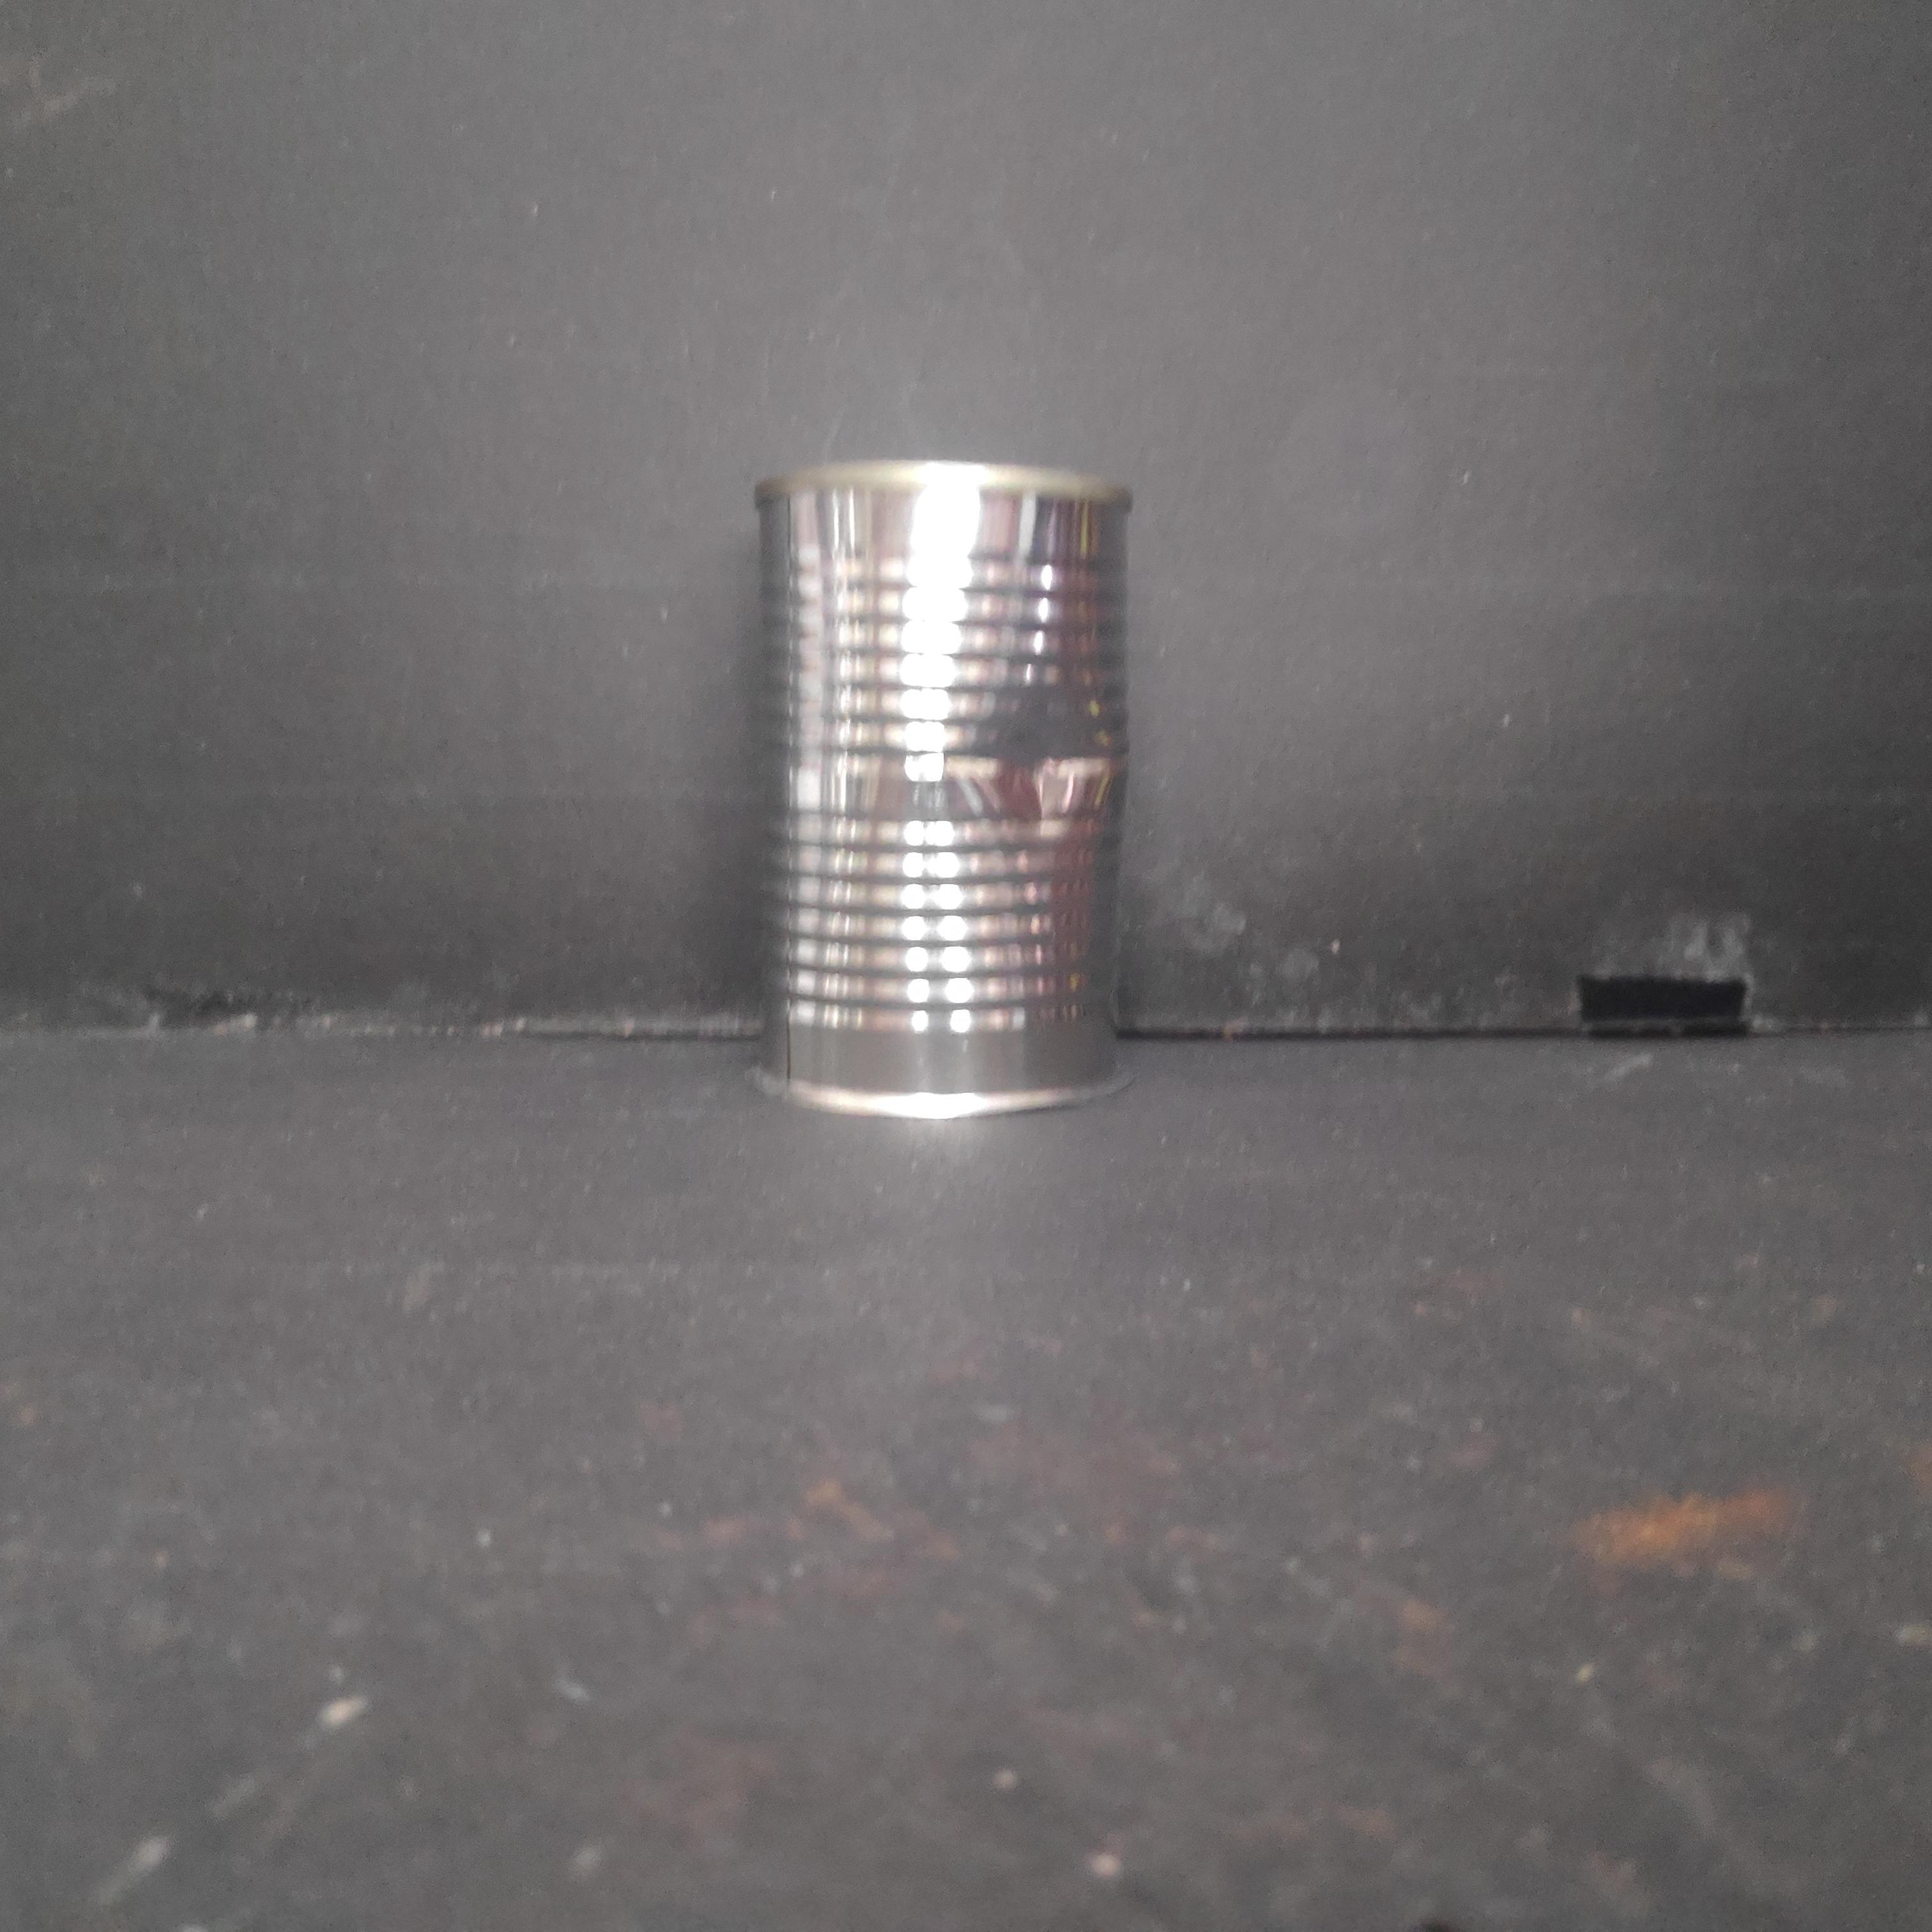Minor Defect: (740, 455, 1141, 1125)
